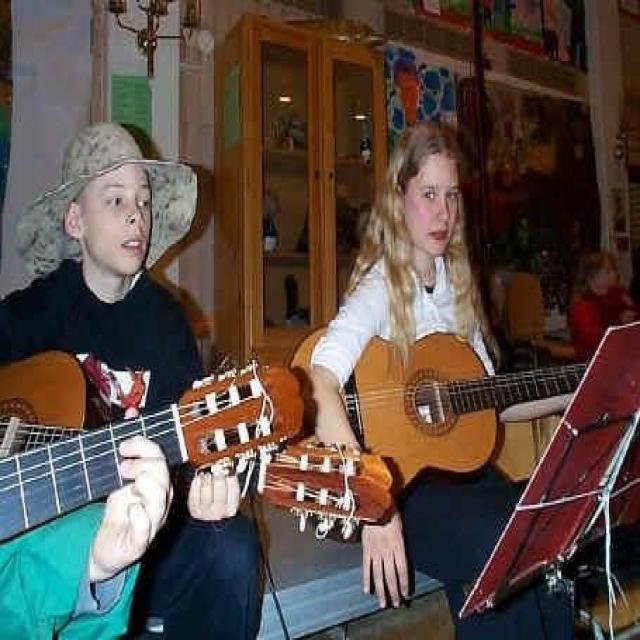guitar: (0, 347, 392, 531), (0, 352, 311, 577), (282, 327, 638, 505)
